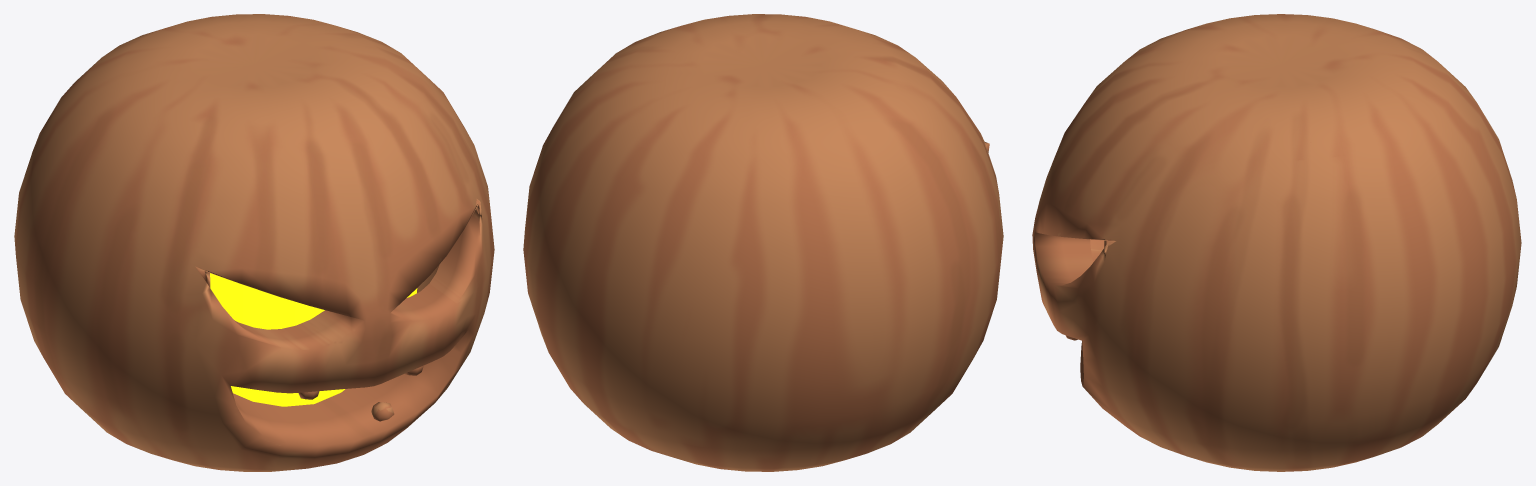
Rendered from Pumpkin.fbx.
3 renders of one model, left to right at view 1: azimuth 30°, elevation 25°; view 2: azimuth 150°, elevation 25°; view 3: azimuth 270°, elevation 25°, orthographic.
Parts seen in each view (by area): view 1: Sphere.001; view 2: Sphere.001; view 3: Sphere.001.
Part boxes in pixels (bbox=[...]): Sphere.001: bbox=[14, 14, 494, 471]; Sphere.001: bbox=[523, 14, 1003, 471]; Sphere.001: bbox=[1032, 14, 1521, 471].
Size of the model in its own units: 190 by 158 by 193.
Materials: 1 (1 with a texture image).
